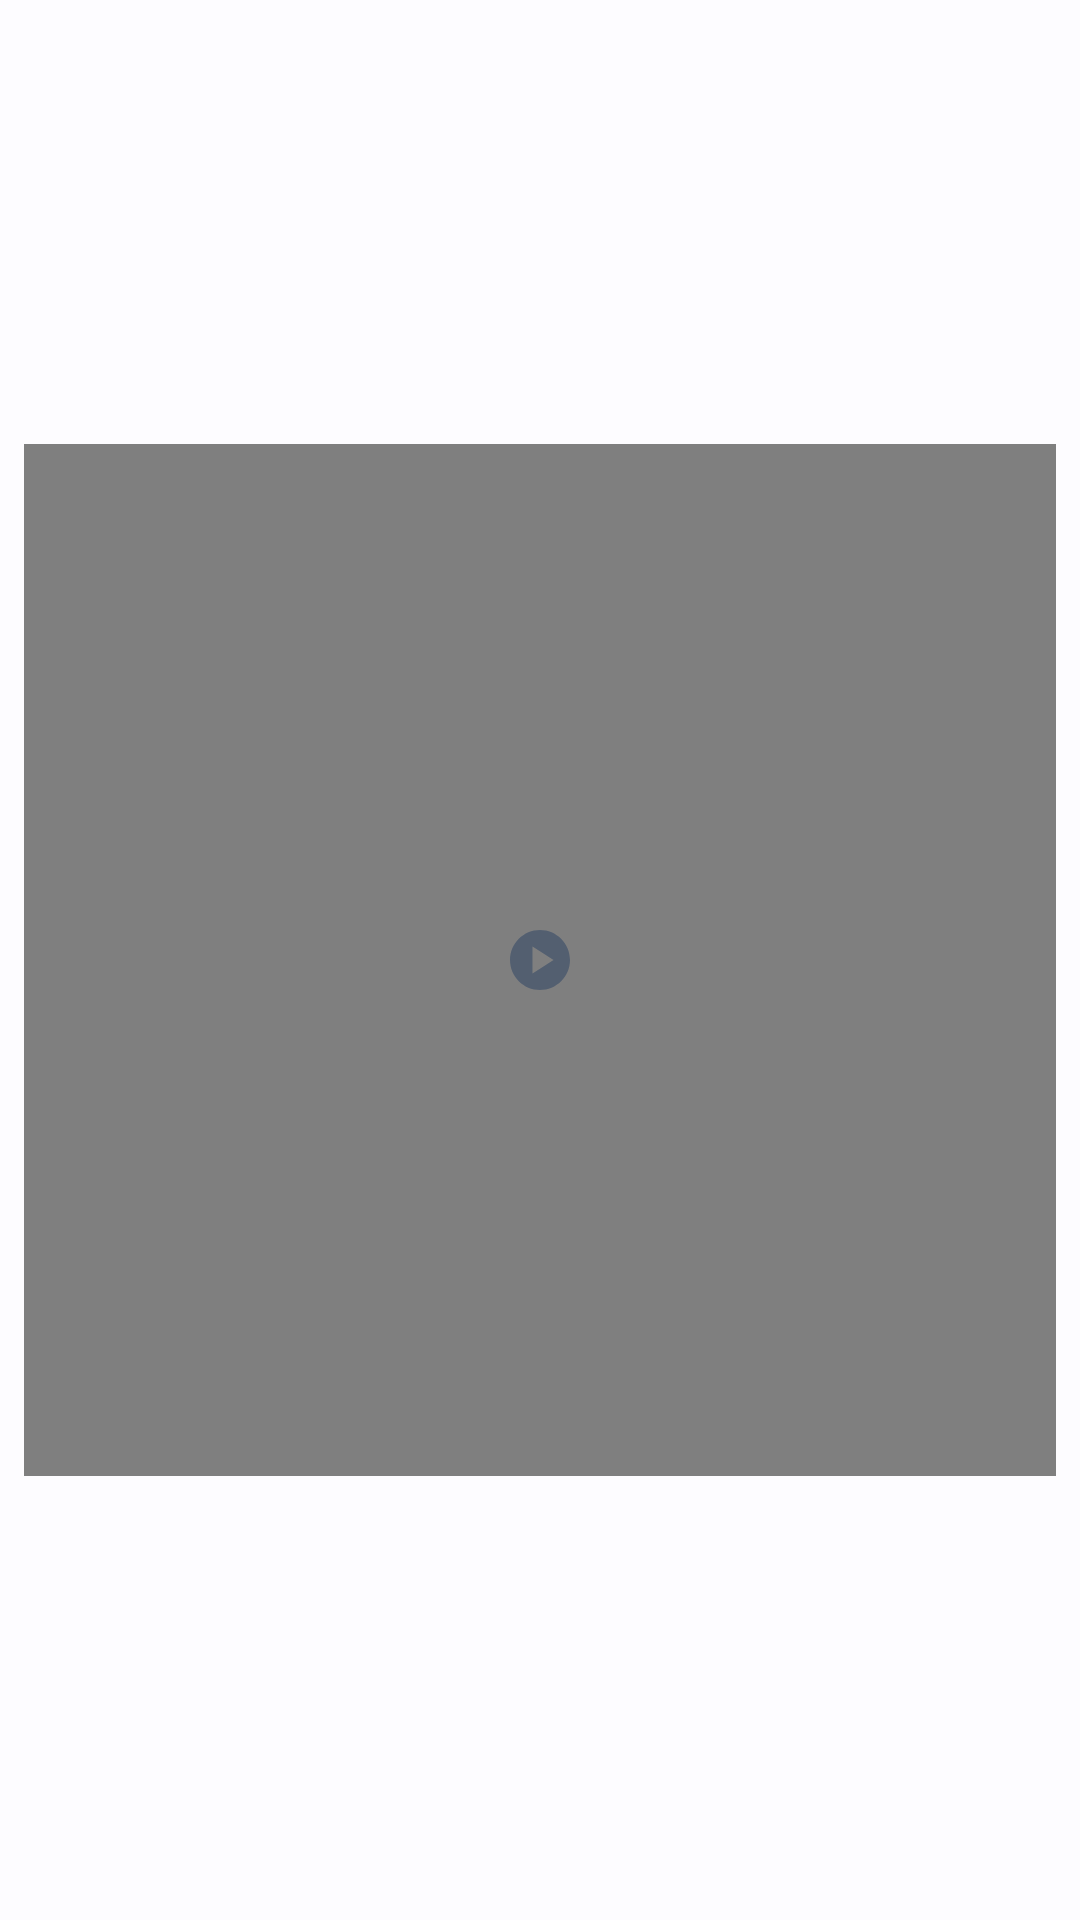

Screen size 1080px×1920px. Icon name, then its center in pixels as (x=x, y=y):
play circle: (x=540, y=960)
